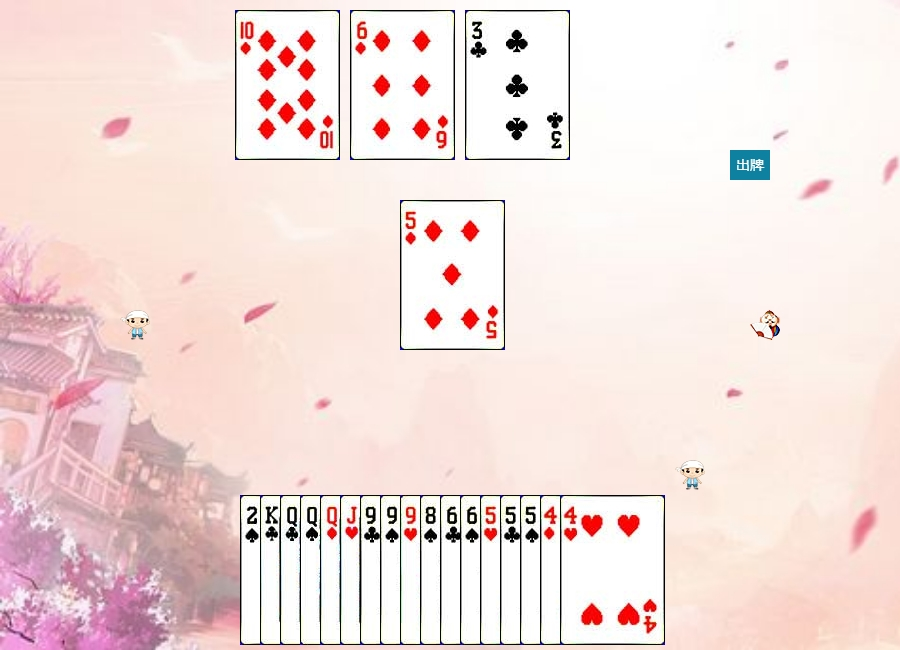10~1: (235, 10, 340, 160)
11~3: (340, 495, 445, 645)
12~1: (320, 495, 425, 645)
12~2: (280, 495, 385, 645)
12~4: (300, 495, 405, 645)
13~2: (260, 495, 365, 645)
15~4: (240, 495, 345, 645)
3~2: (465, 10, 570, 160)
4~1: (540, 495, 645, 645)
4~3: (560, 495, 665, 645)
5~1: (400, 200, 505, 350)
5~2: (500, 495, 605, 645)
5~3: (480, 495, 585, 645)
5~4: (520, 495, 625, 645)
6~1: (350, 10, 455, 160)
6~2: (440, 495, 545, 645)
6~4: (460, 495, 565, 645)
8~4: (420, 495, 525, 645)
9~2: (360, 495, 465, 645)
9~3: (400, 495, 505, 645)
9~4: (380, 495, 485, 645)
